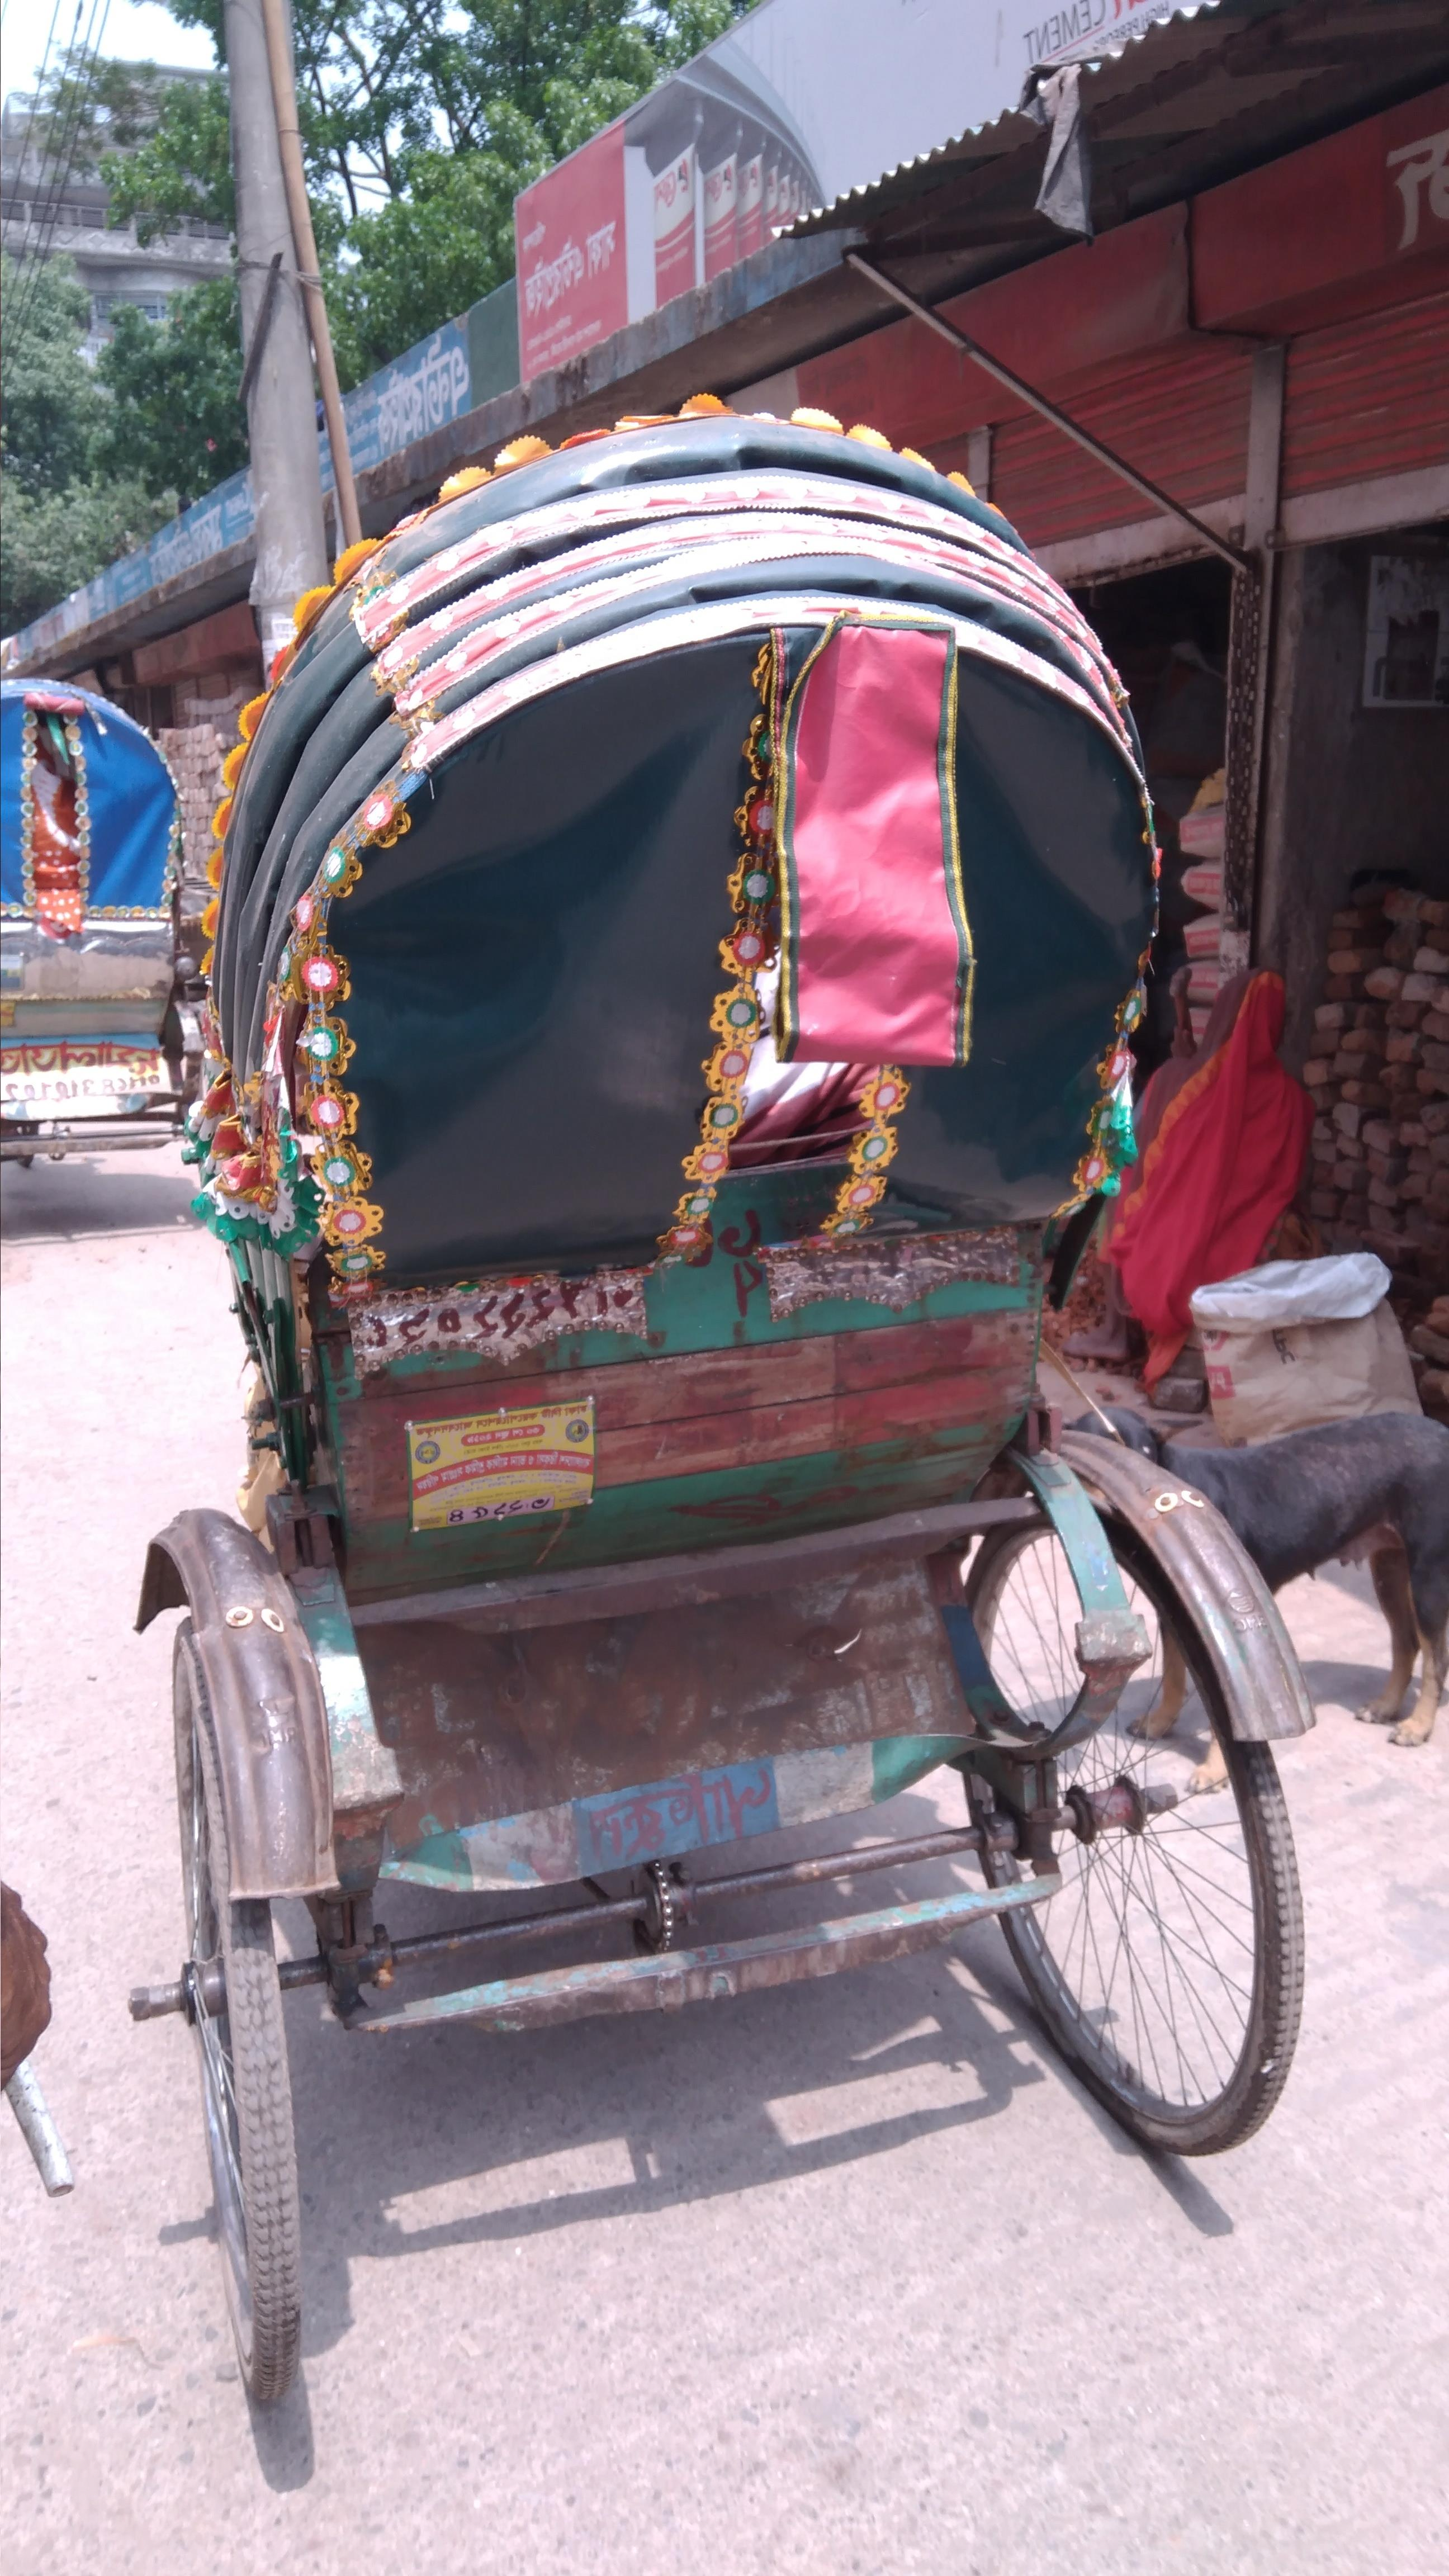Rickshaw: (175, 395, 1346, 2367), (7, 640, 253, 1235)
